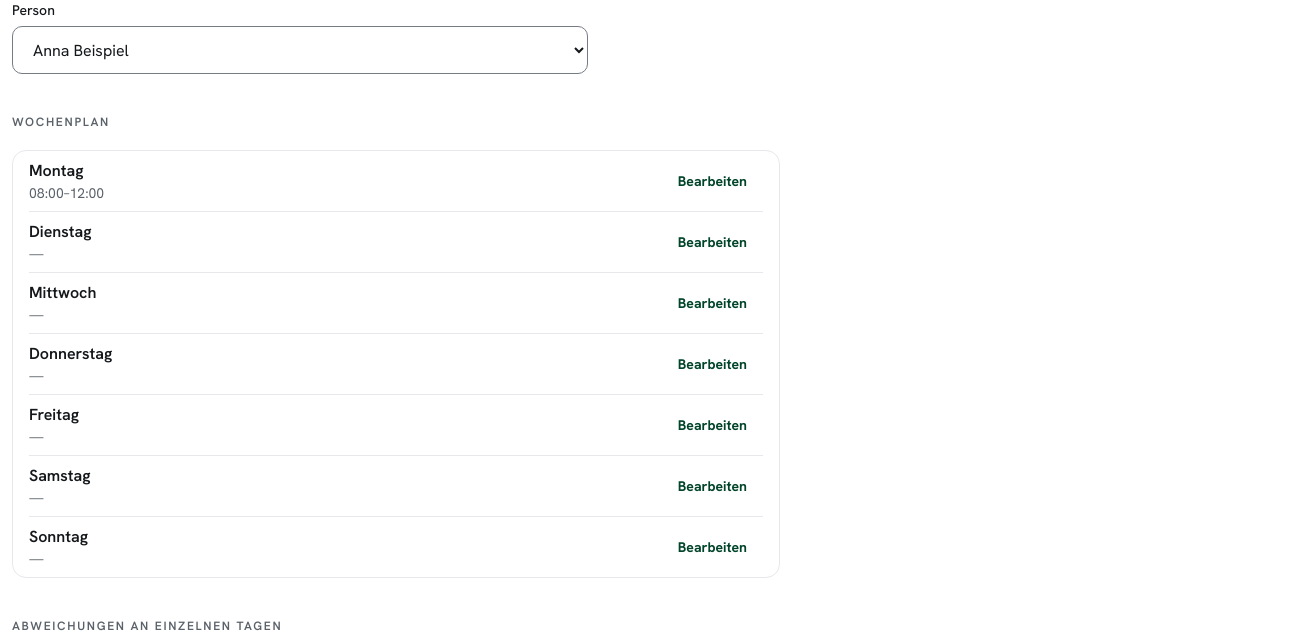
Test: ArbeitszeitJePerson (ORG-003) › Wochenplan › bestaetigt das Speichern auch, wenn das Nachladen einen geaenderten Stand bringt (ORG-04)
Step 1. Click the button "Bearbeiten" in the row of "Montag" → {"x": 712, "y": 181}, box [662,159,763,203]
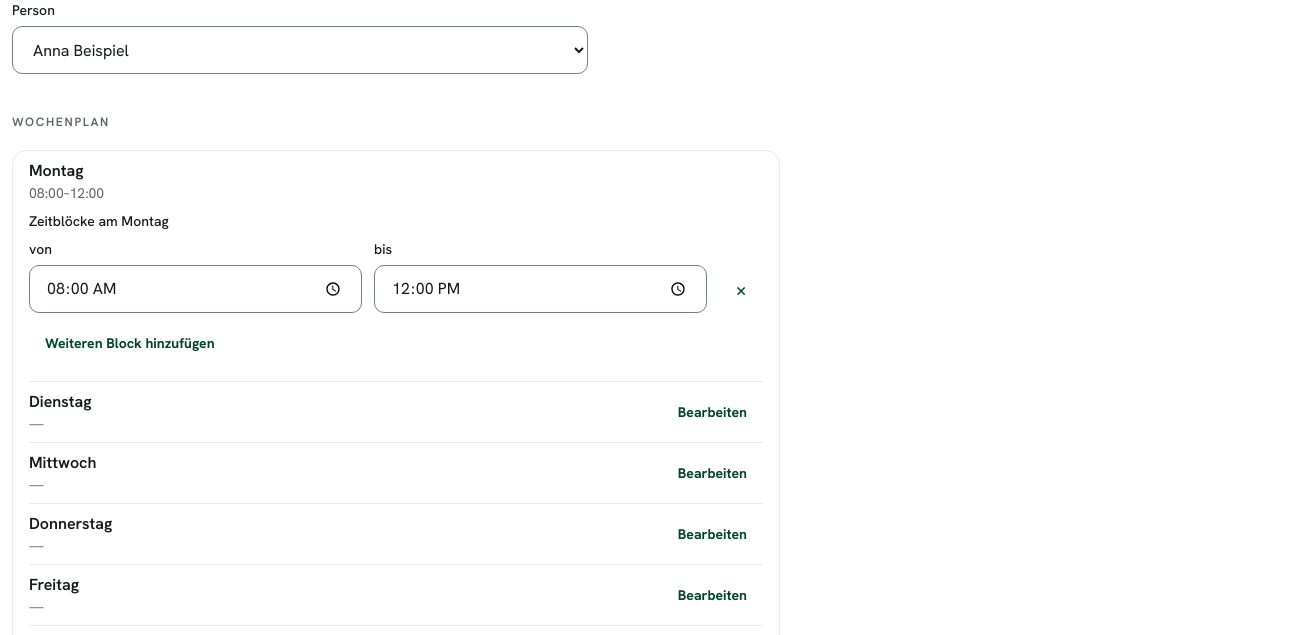
Step 2. Replace the text in the time field named "Montag, Block 1 von" with "09:00" → {"x": 196, "y": 289}, box [29,265,362,313]
(page scrolled)
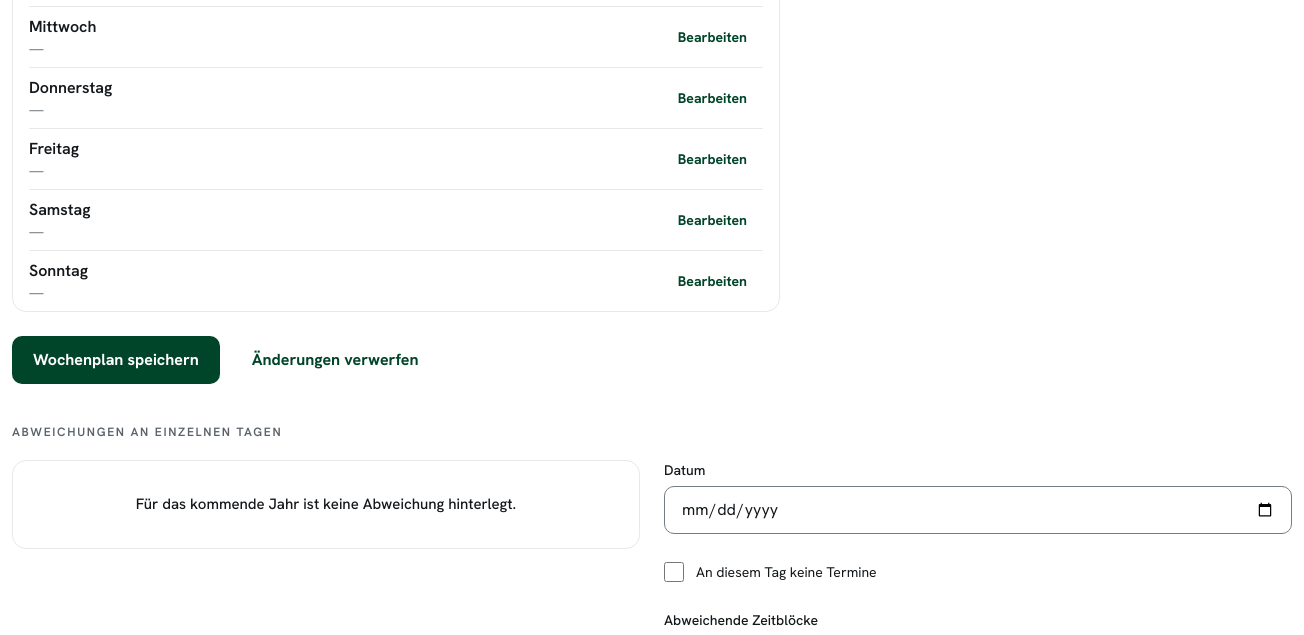
Step 3. Click the button "Wochenplan speichern" → {"x": 116, "y": 360}, box [12,336,220,384]
(page scrolled)
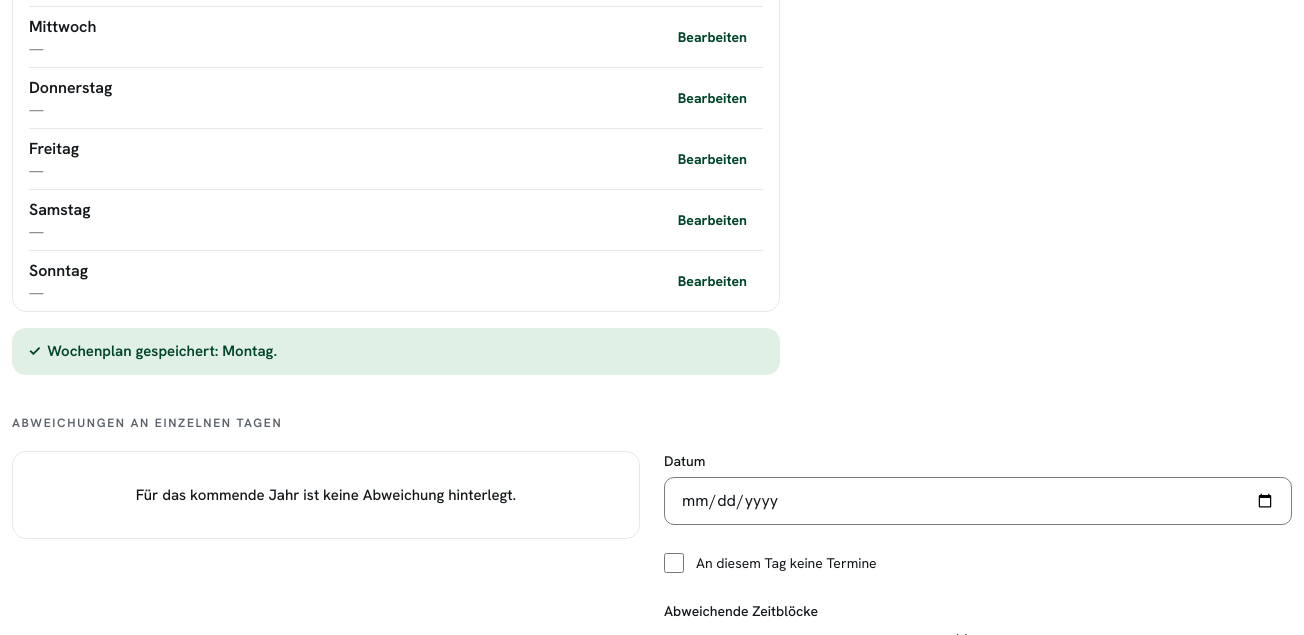
expect the text "Wochenplan gespeichert: Montag." is shown: met, box [47,341,277,361]
